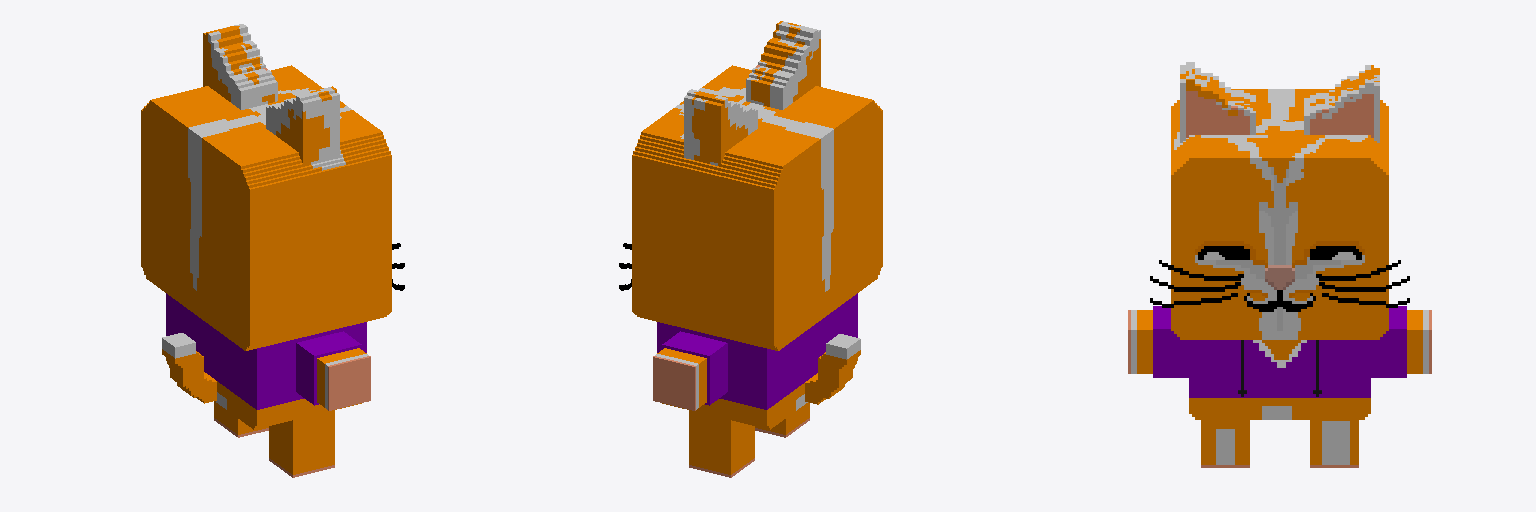
The picture shows the model from 3 angles: view 1: azimuth 30°, elevation 25°; view 2: azimuth 150°, elevation 25°; view 3: azimuth 270°, elevation 25°; orthographic projection.
Parts seen in each view (by area): view 1: object 1; view 2: object 1; view 3: object 1.
Part boxes in pixels (x1,y1,x2,y2): object 1: (141,24,404,477); object 1: (619,21,882,477); object 1: (1128,62,1431,467).
Bounding box in the file's own units: 6.6 × 14 × 10.
Materials: 1 (1 with a texture image).